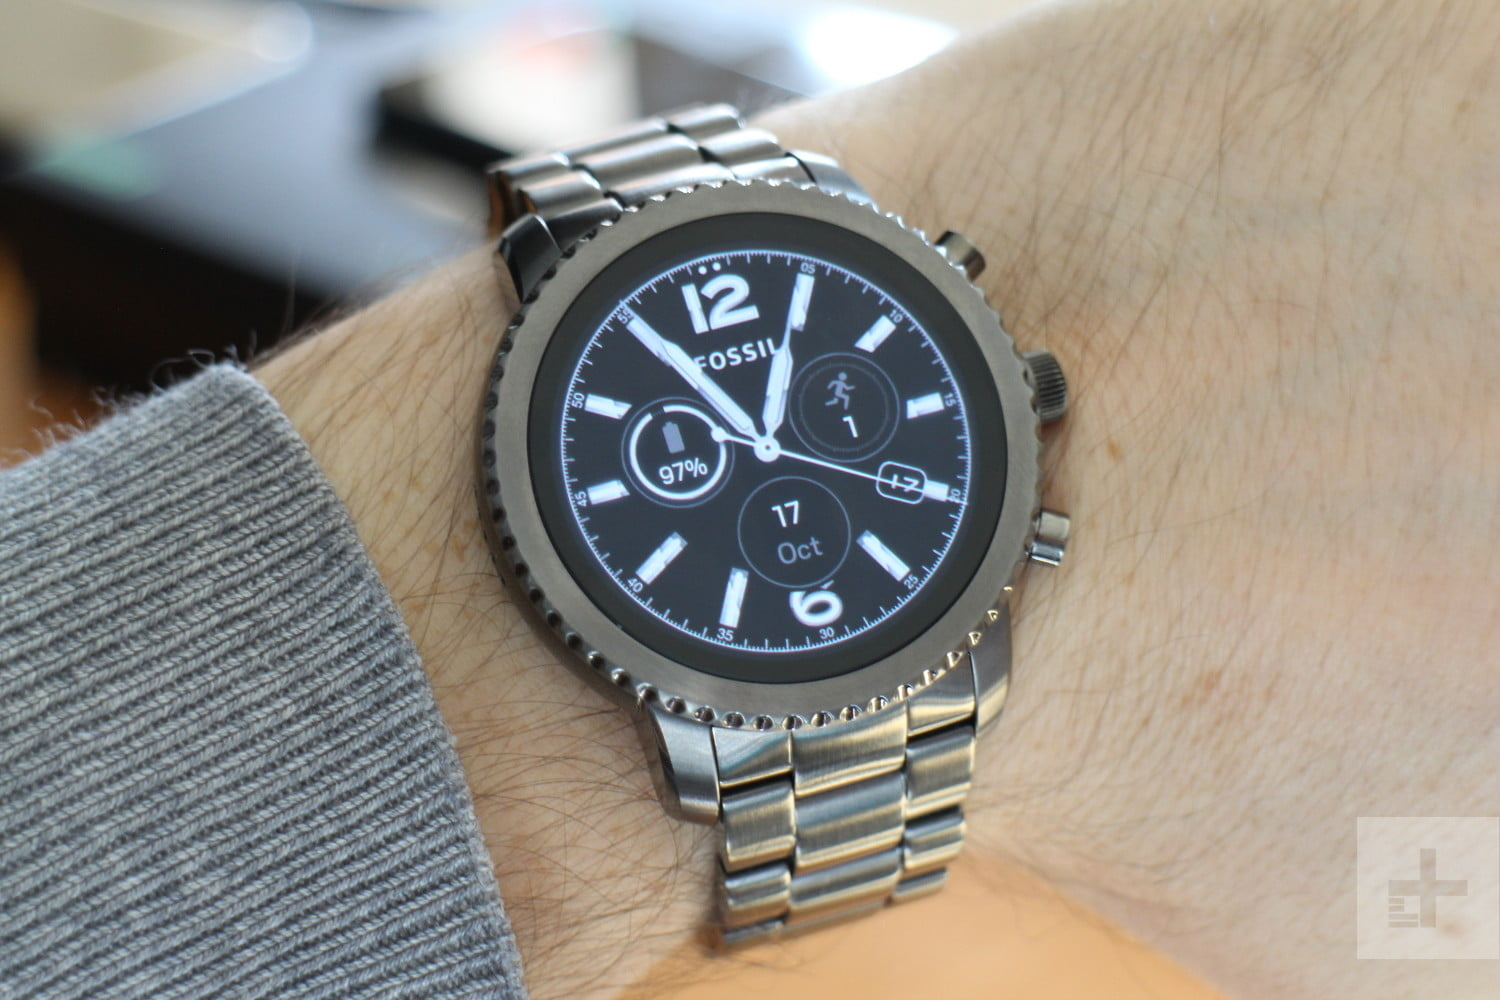clock: (475, 175, 1050, 737)
